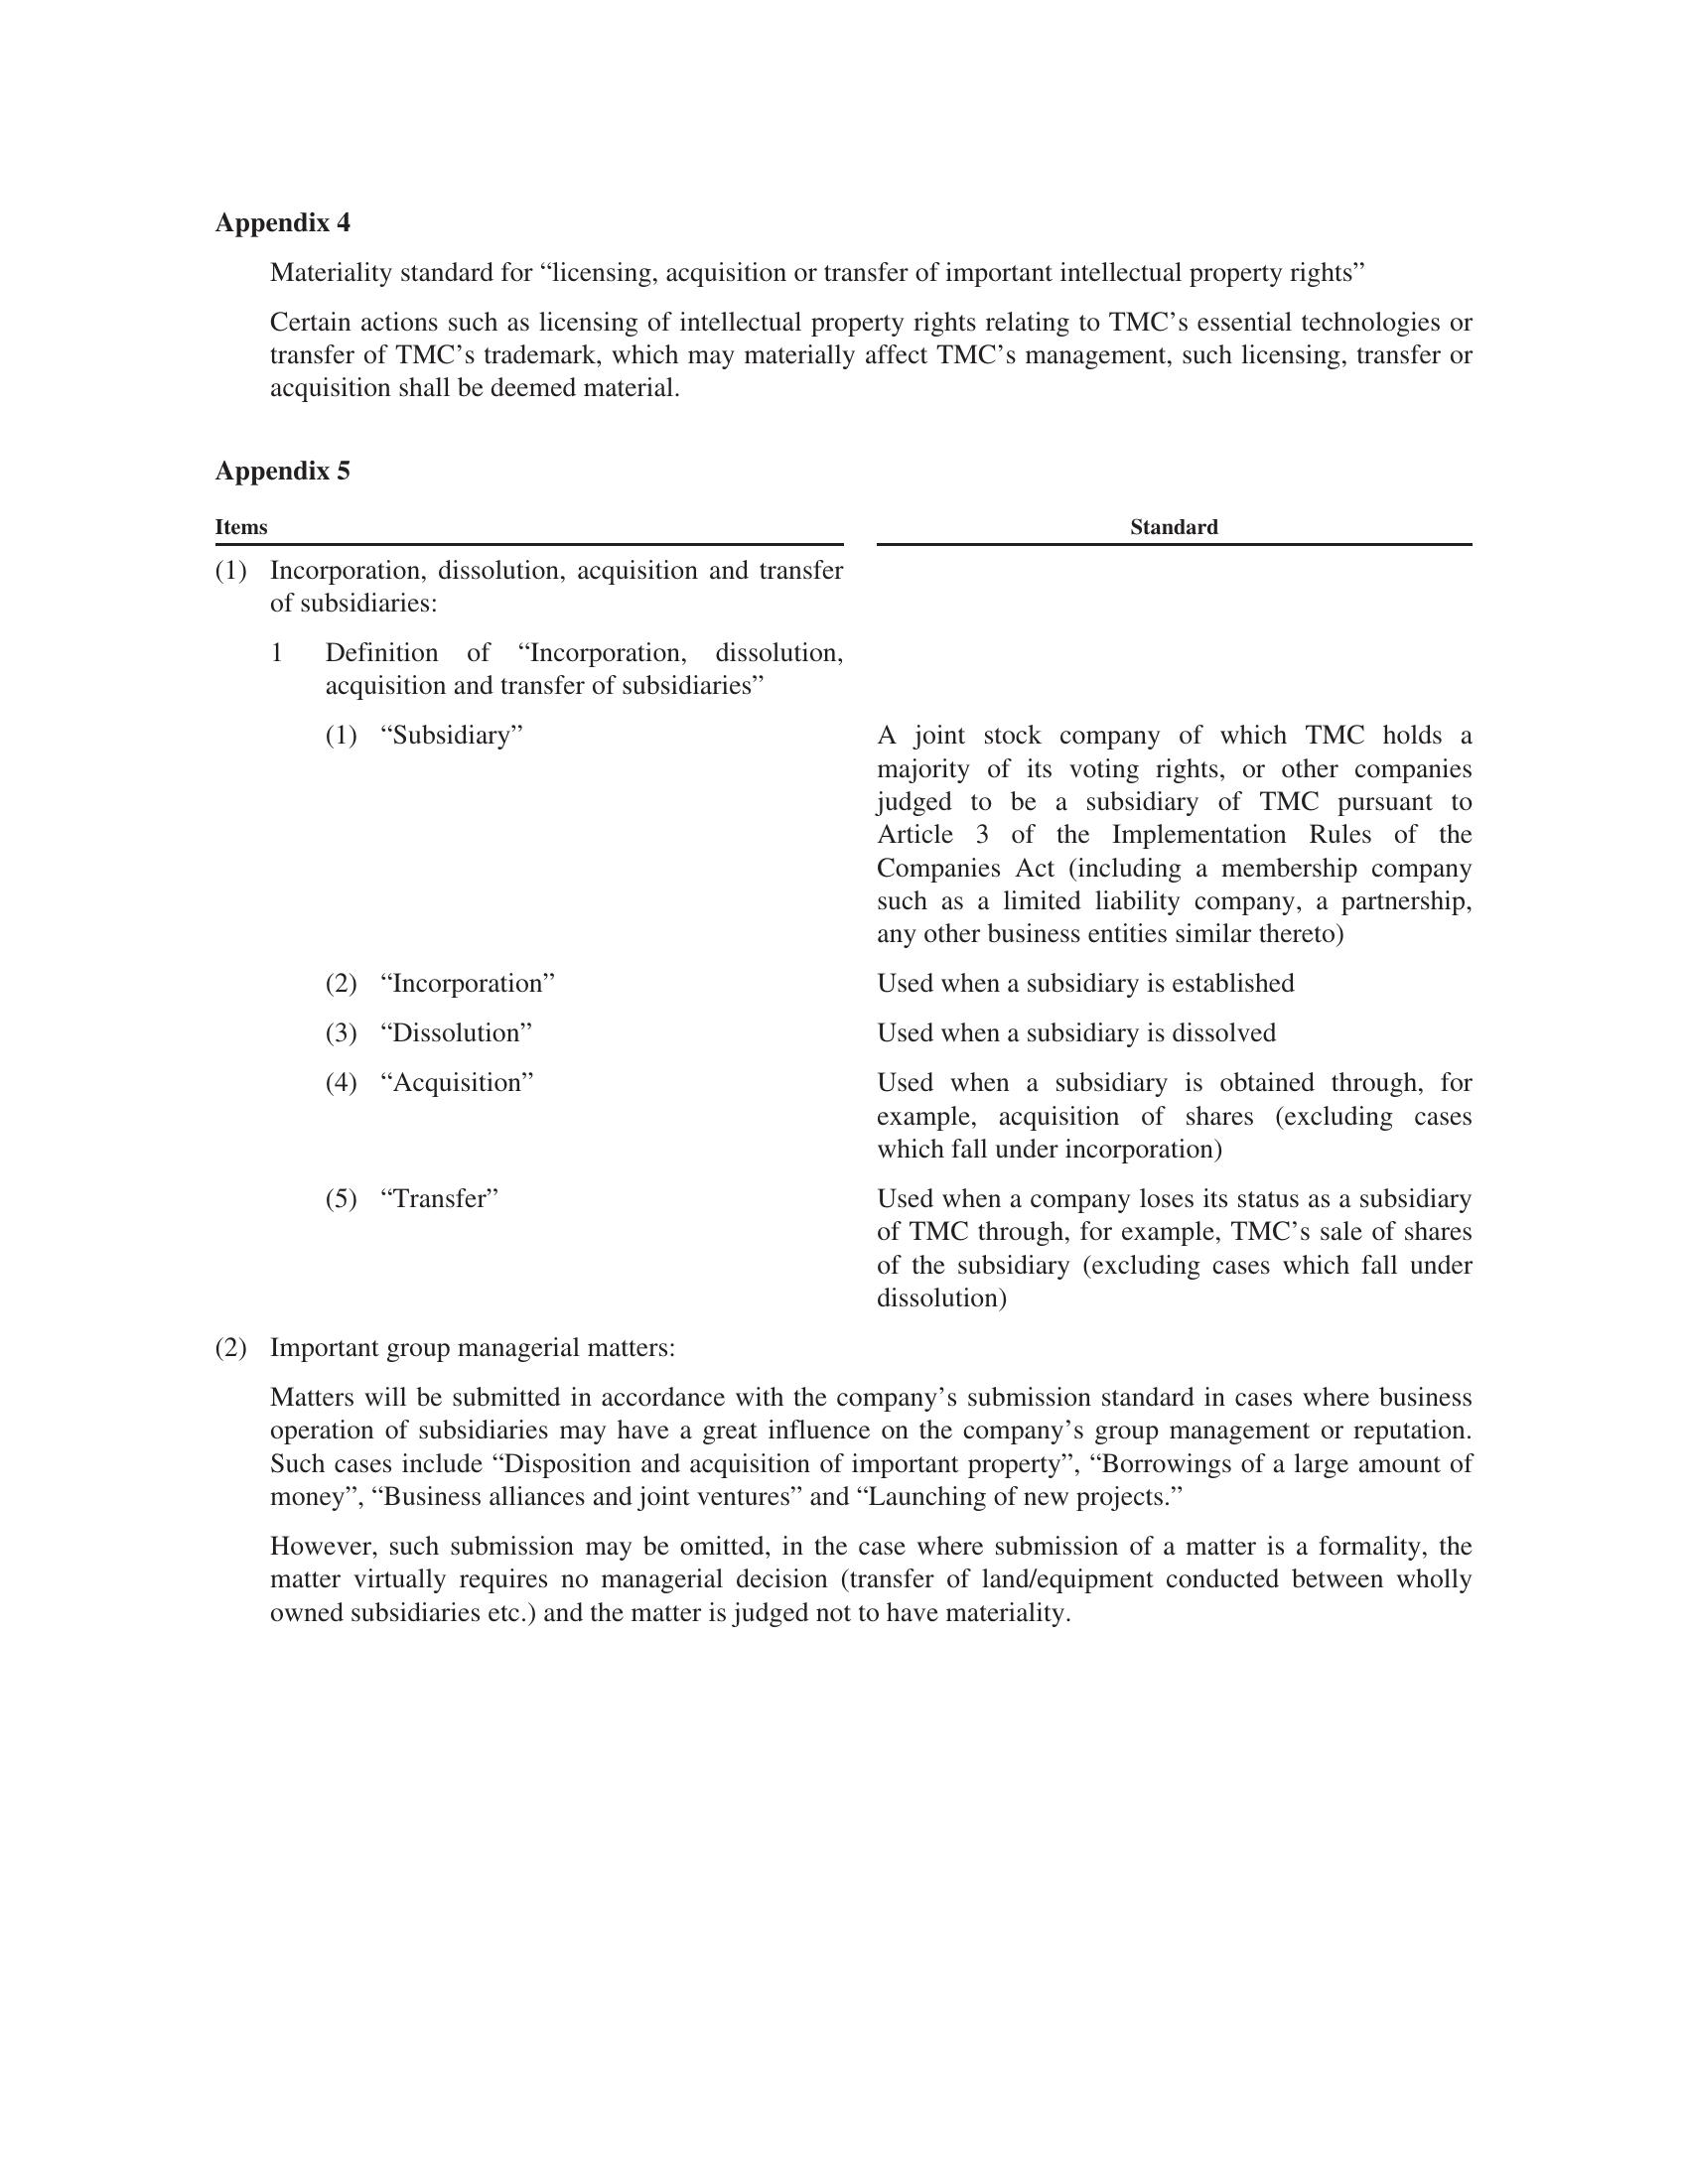Footer: (0, 1971, 1688, 2184)
Header: (0, 0, 1688, 191)
Table: (137, 507, 1525, 1333)
